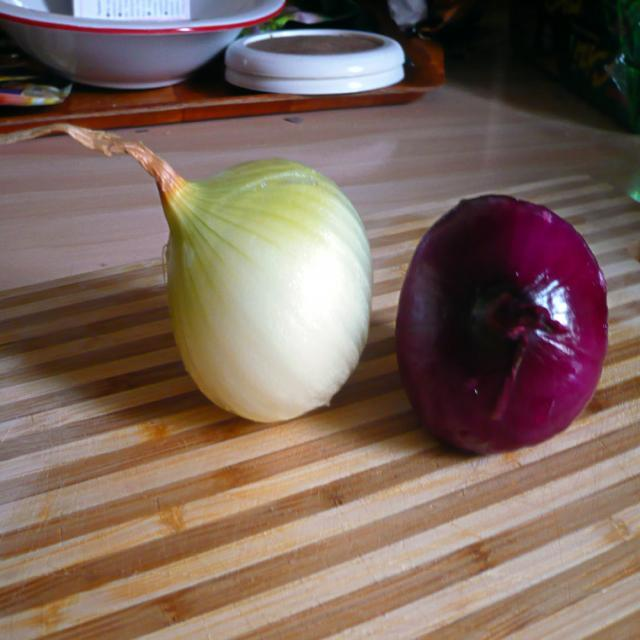onion: (158, 150, 375, 427), (394, 188, 611, 456)
